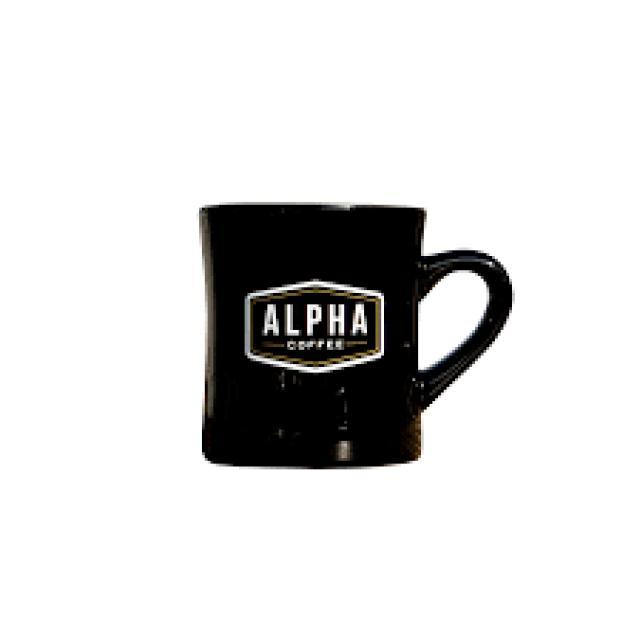taza: (199, 200, 514, 470)
